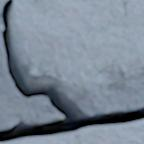brick: (11, 0, 143, 74), (0, 120, 143, 143)
crack: (0, 0, 143, 142)
